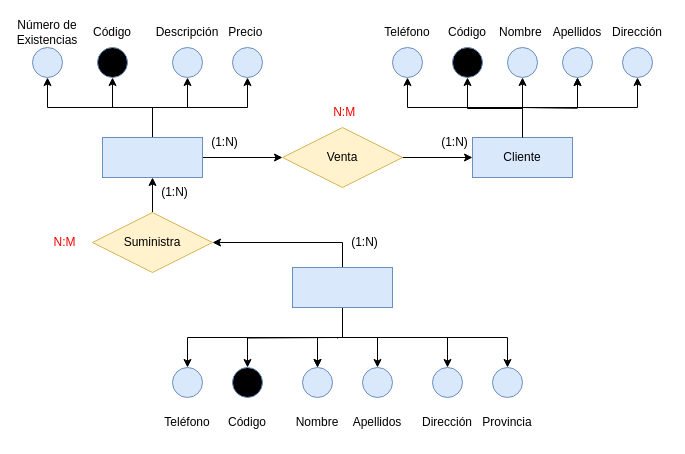
Image size: 685x454. Some labels were removed from this diagram. Here are the shapes that lost their labels. From the top down, the centre of each, then its label:
At (152,157): "Producto".
At (342,287): "Proveedor".
